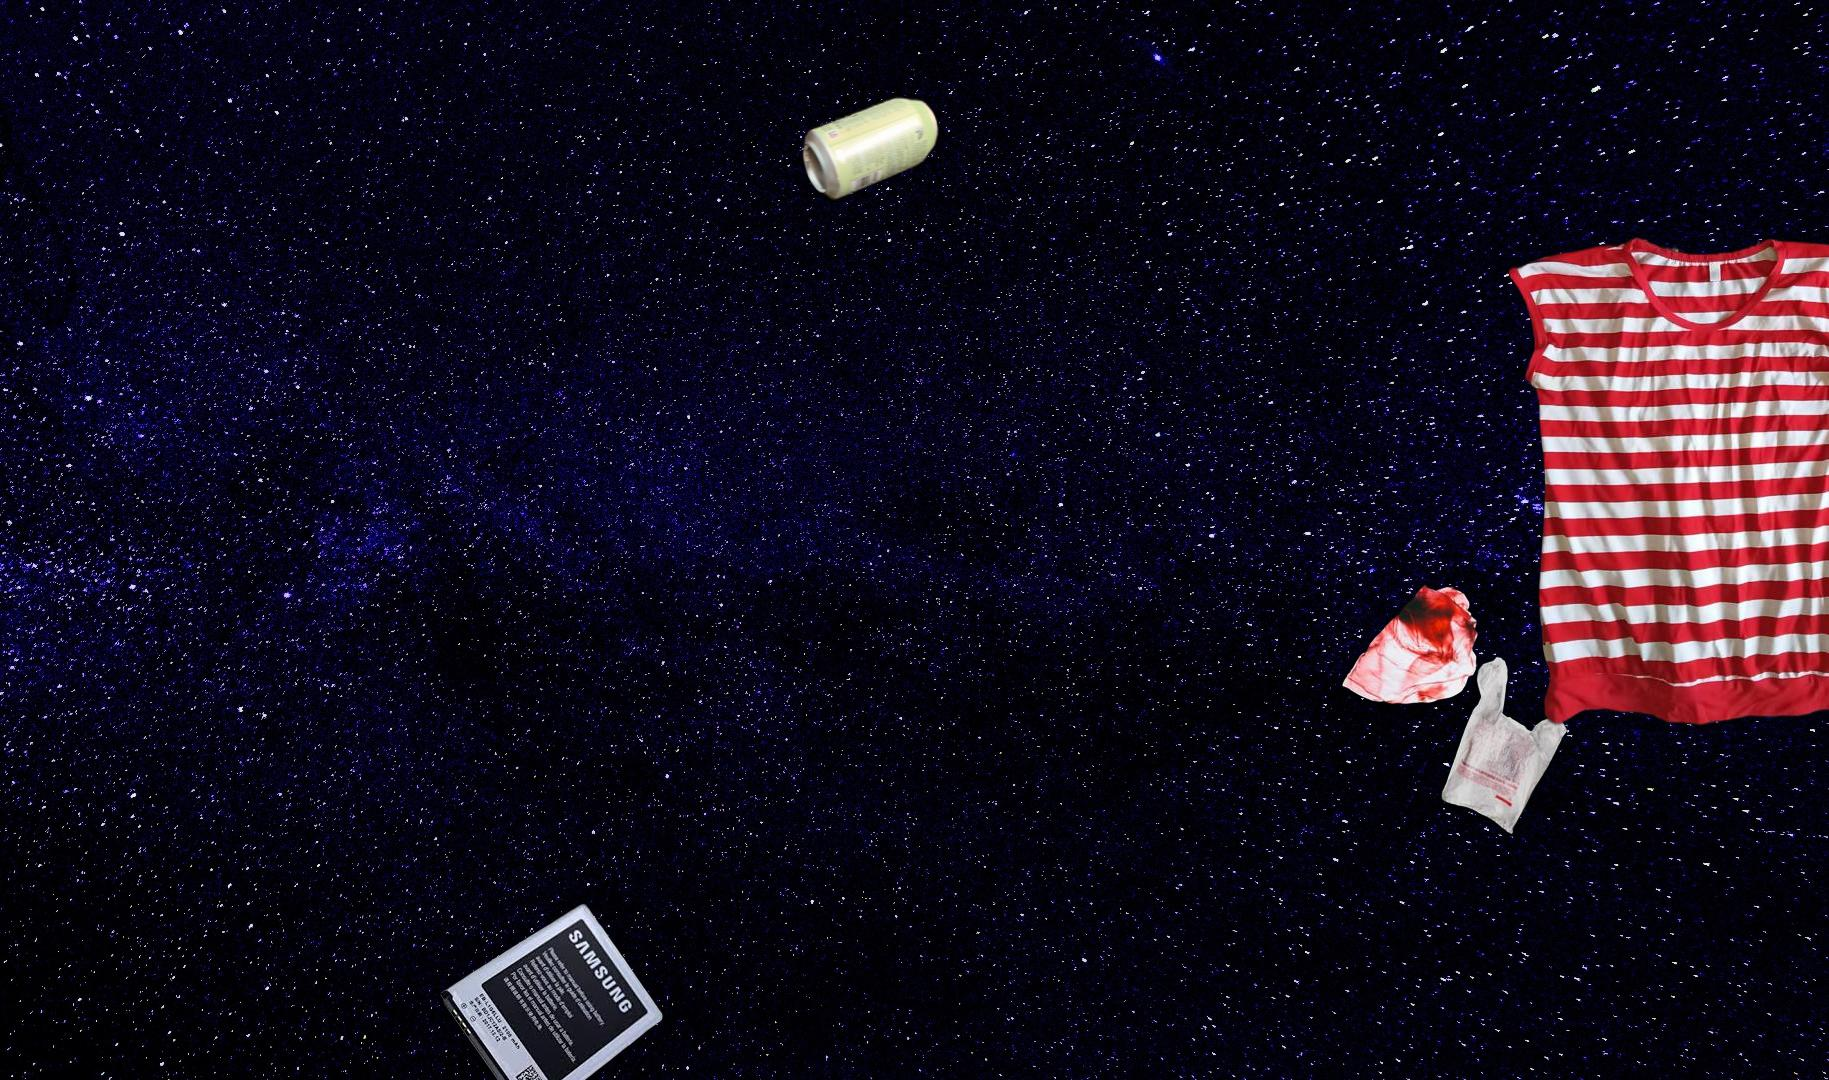battery: (440, 901, 665, 1080)
clothes: (1509, 230, 1829, 732)
metal-cans: (798, 91, 943, 206)
plastic-bag: (1339, 582, 1568, 836)
